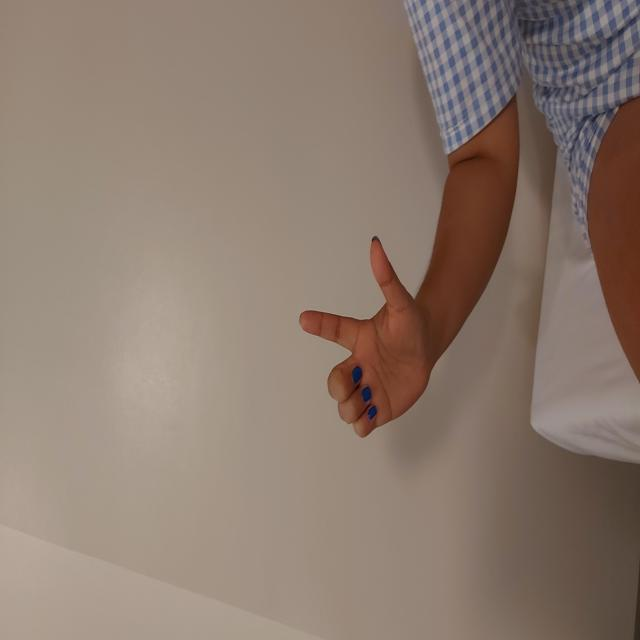L: (202, 298, 408, 431)
